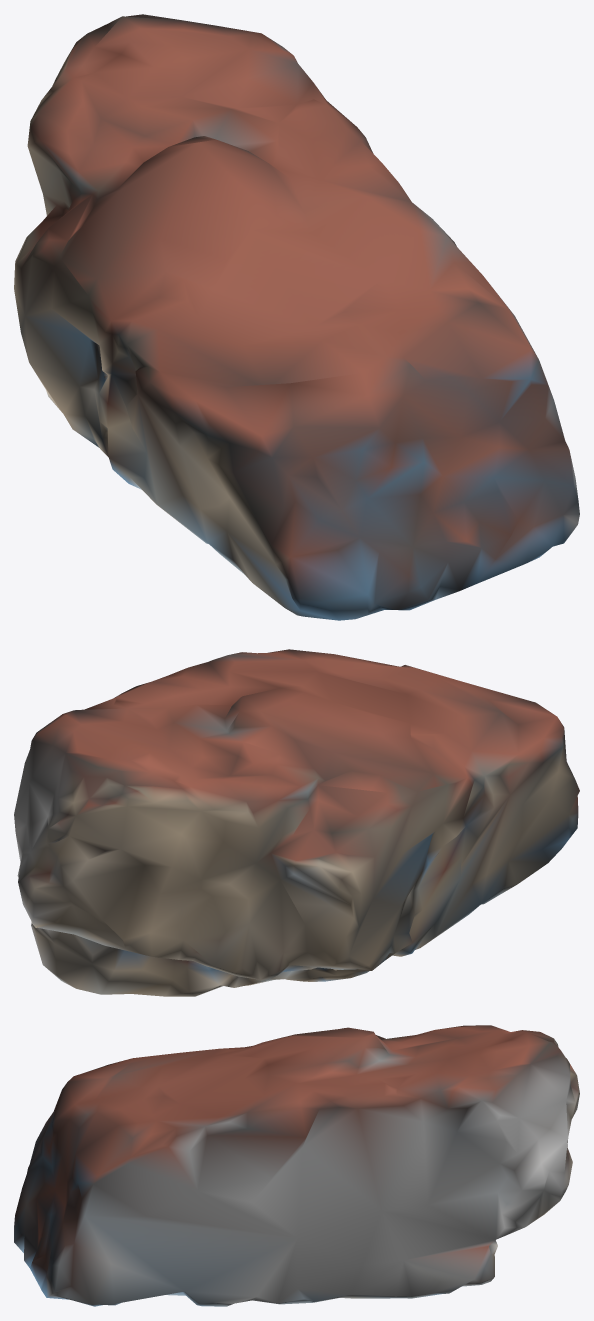
The model's file is rock_07_lod.gltf.
The picture shows the model from 3 angles, top to bottom: view 1: azimuth 30°, elevation 25°; view 2: azimuth 150°, elevation 25°; view 3: azimuth 270°, elevation 25°; orthographic projection. The views are drawn at different scales.
Parts seen in each view (by area): view 1: rock_07; view 2: rock_07; view 3: rock_07.
Part boxes in pixels (x1,y1,x2,y2): rock_07: (14,14,579,620); rock_07: (14,649,579,996); rock_07: (14,1025,579,1306).
Bounding box in the file's own units: 0.1674 × 0.1434 × 0.3198.
